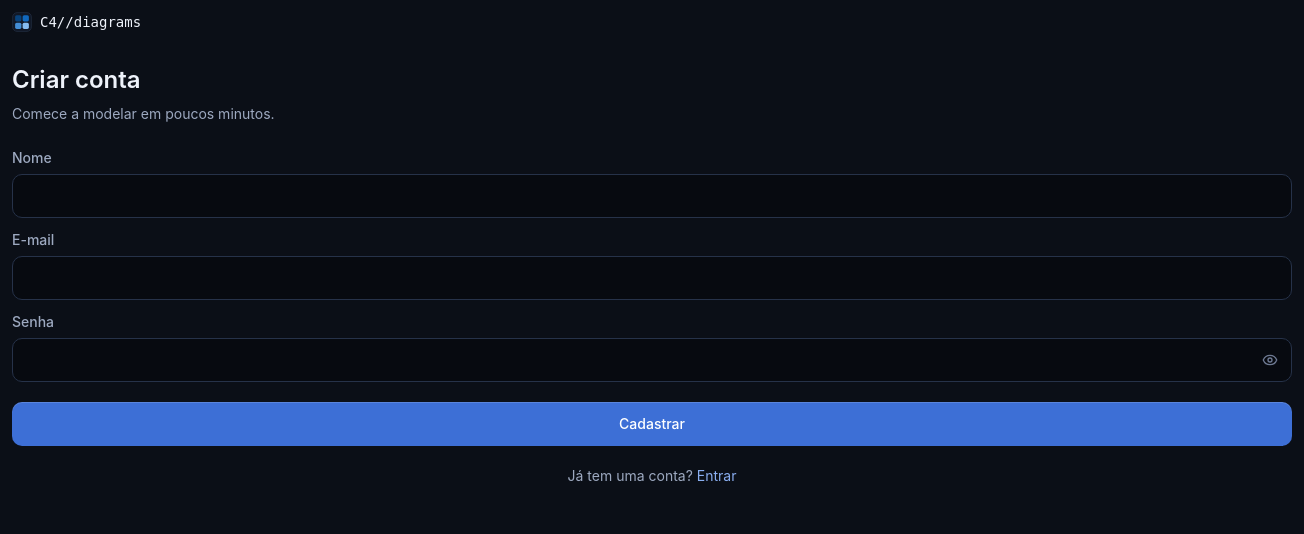
Test: Register › deve exibir mensagem de erro quando o e-mail já existe (409)
The image size is (1304, 534).
Type "João" into the field labelled "Nome" at (652, 196), box left=12, top=174, right=1292, bottom=218
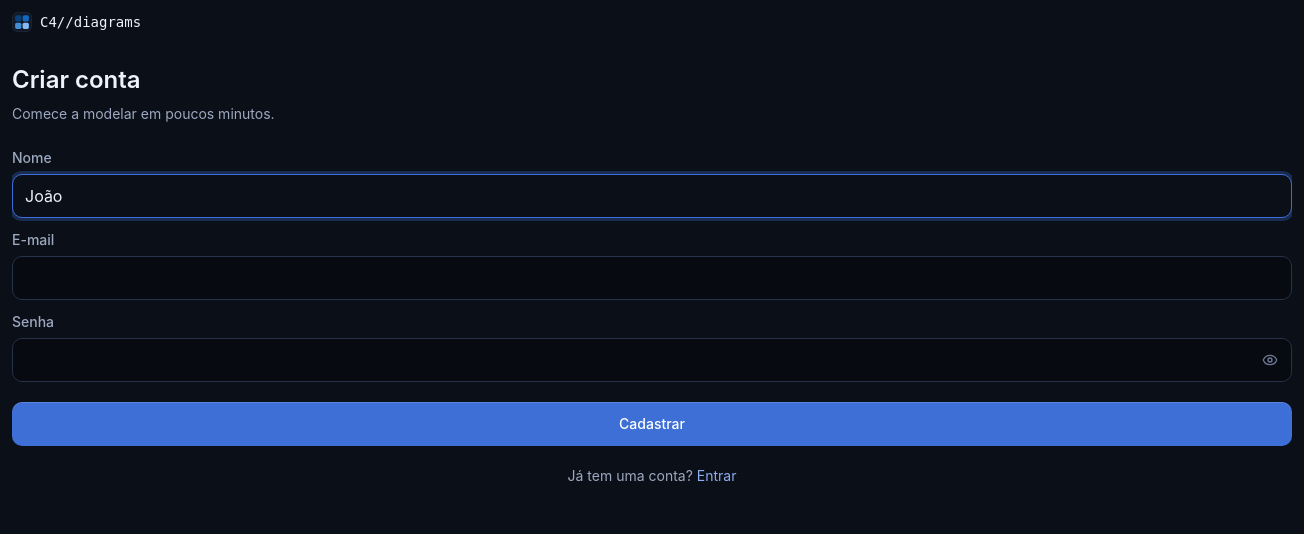
Type "joao@example.com" into the field labelled "E-mail" at (652, 278), box left=12, top=256, right=1292, bottom=300
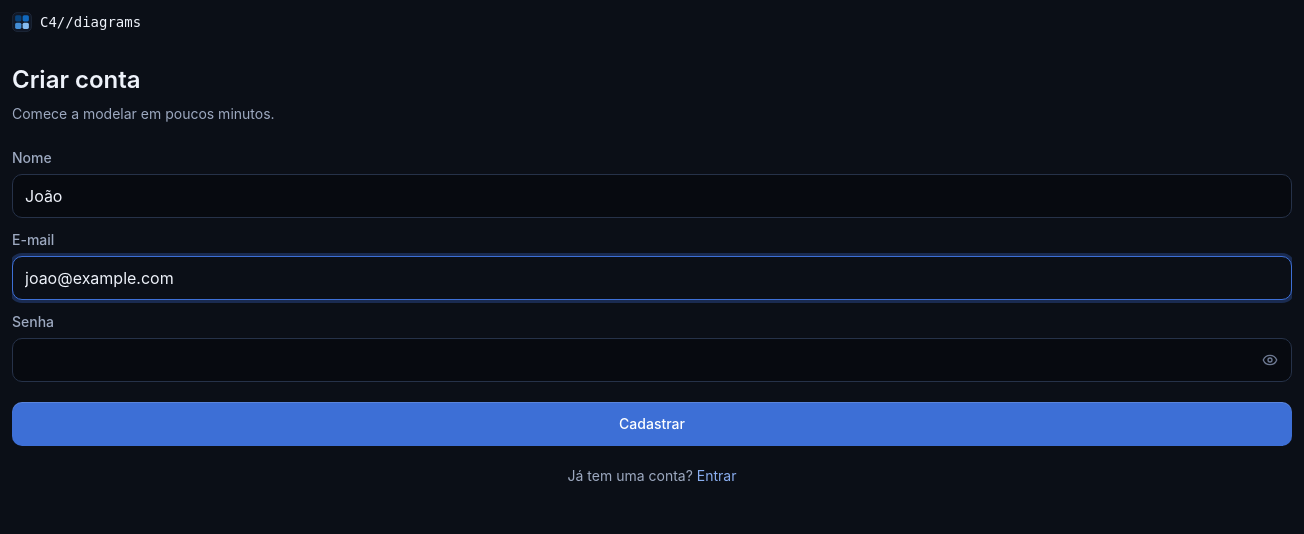
Type "Senha@12345" into the password field labelled "Senha" at (652, 360), box left=12, top=338, right=1292, bottom=382
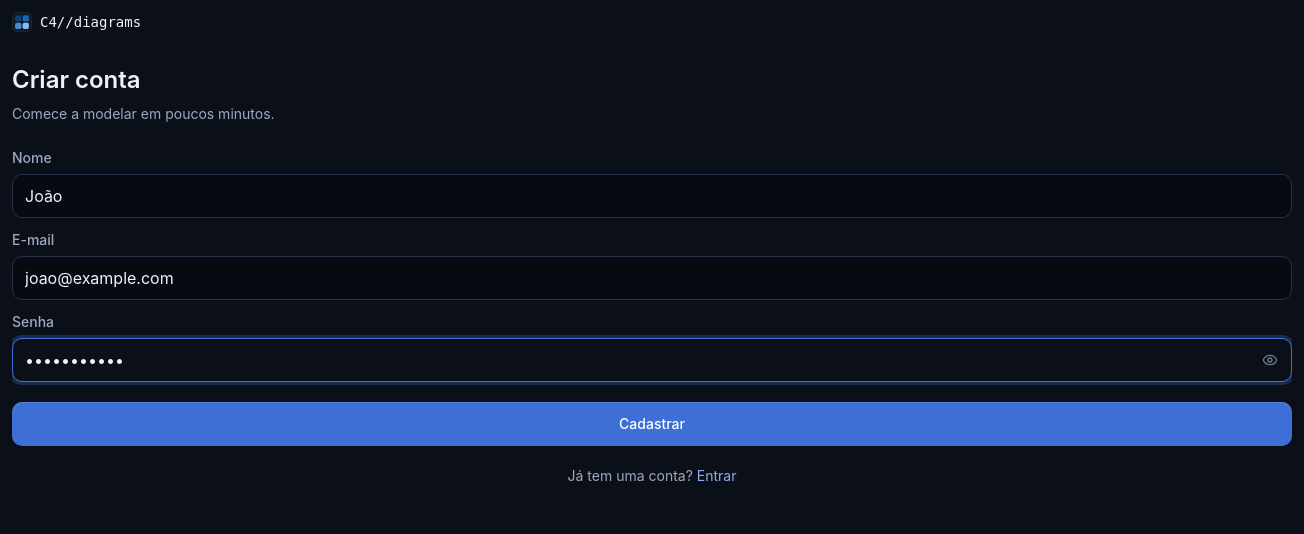
Click the button "Cadastrar" at (652, 424), box left=12, top=402, right=1292, bottom=446
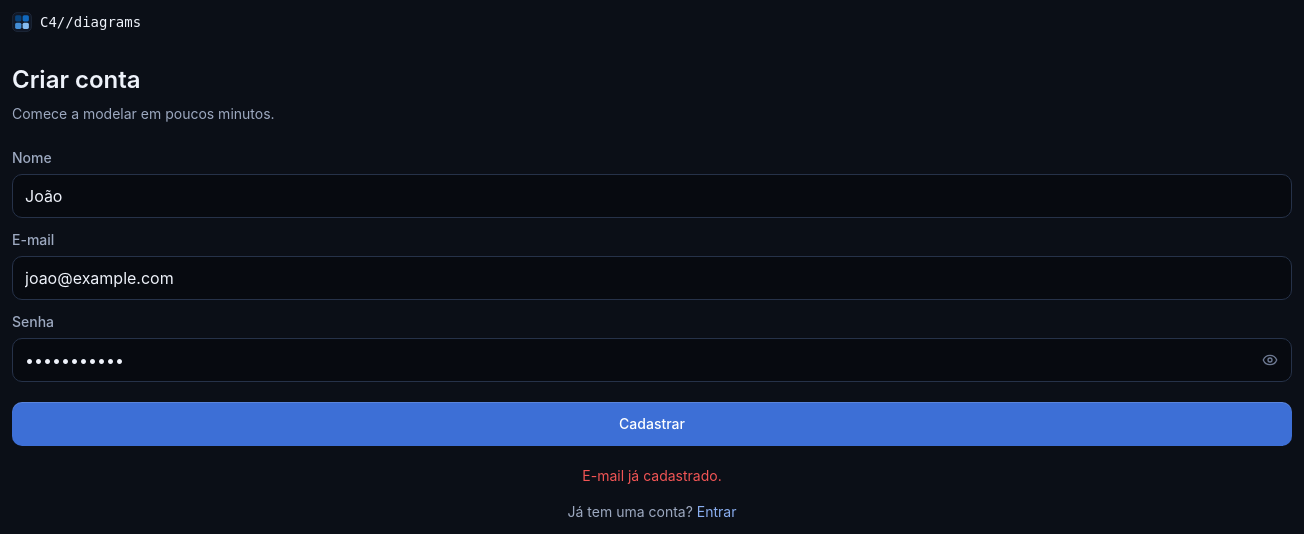
Check: the text "E-mail já cadastrado." is shown, box left=582, top=467, right=722, bottom=484
